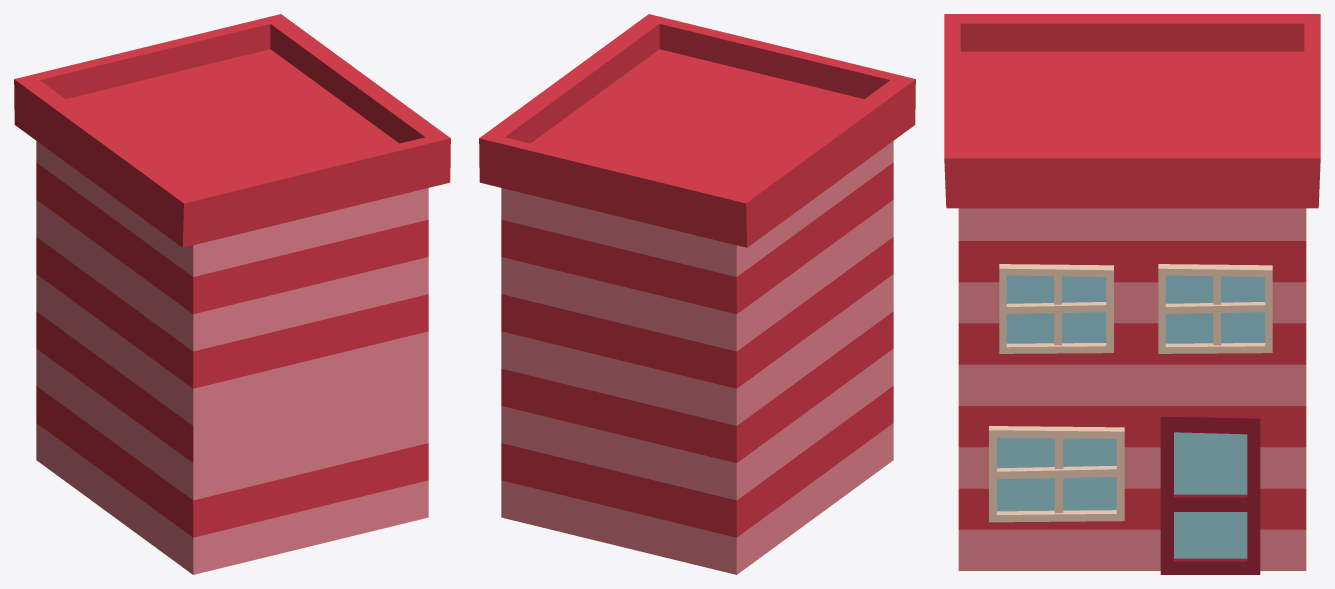
The model's file is Flower_shop.fbx.
3 renders of one model, left to right at view 1: azimuth 30°, elevation 25°; view 2: azimuth 150°, elevation 25°; view 3: azimuth 270°, elevation 25°, orthographic. The views are drawn at different scales.
Parts seen in each view (by area): view 1: Flower shop; view 2: Flower shop; view 3: Flower shop.
Boxes of the visible parts, x1=… form: Flower shop: x1=14, y1=14, x2=450, y2=574; Flower shop: x1=479, y1=14, x2=915, y2=574; Flower shop: x1=944, y1=14, x2=1320, y2=574.
Bounding box in the file's own units: 867 × 1178 × 953.
